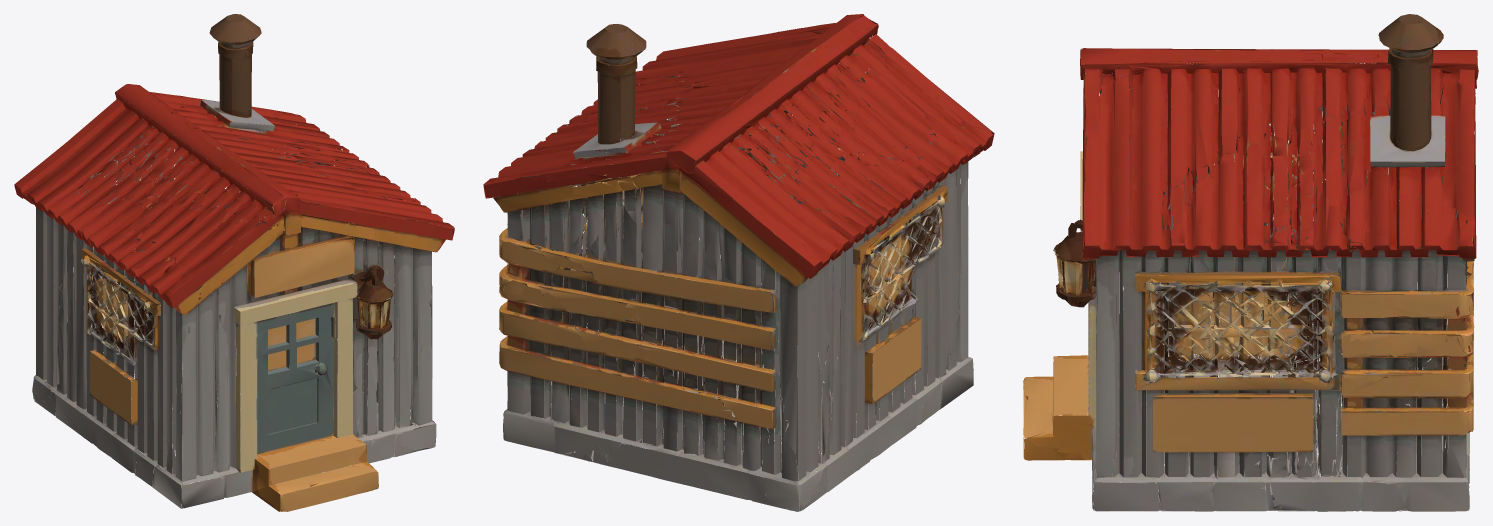
The model's file is house_realtime.glb.
3 renders of one model, left to right at view 1: azimuth 30°, elevation 25°; view 2: azimuth 150°, elevation 25°; view 3: azimuth 270°, elevation 25°, orthographic. The views are drawn at different scales.
Visible parts, largest first — view 1: house_realtime; view 2: house_realtime; view 3: house_realtime.
Boxes of the visible parts, <box> form: house_realtime: <box>14,14,454,511</box>; house_realtime: <box>483,14,994,511</box>; house_realtime: <box>1023,14,1478,511</box>.
Bounding box in the file's own units: 1.37 × 1.63 × 1.5.
Materials: 1 (1 with a texture image).
